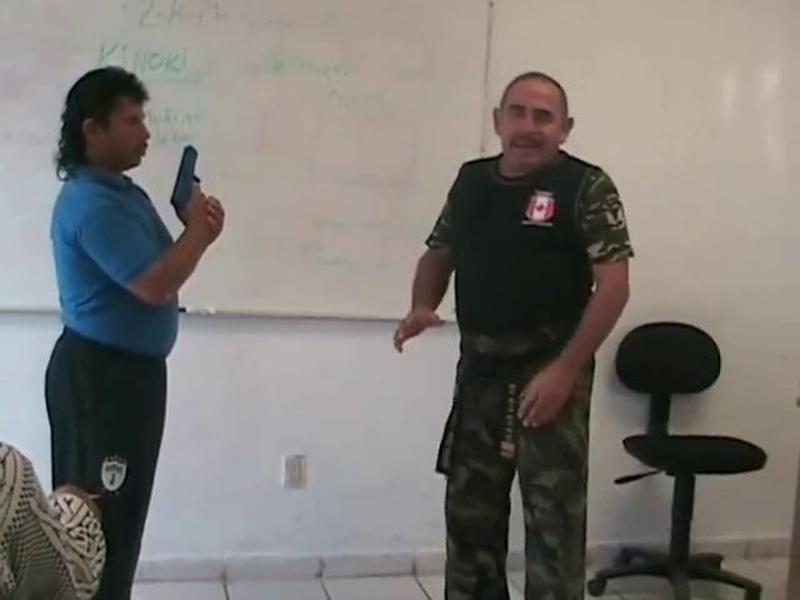Pistola: (168, 133, 205, 223)
